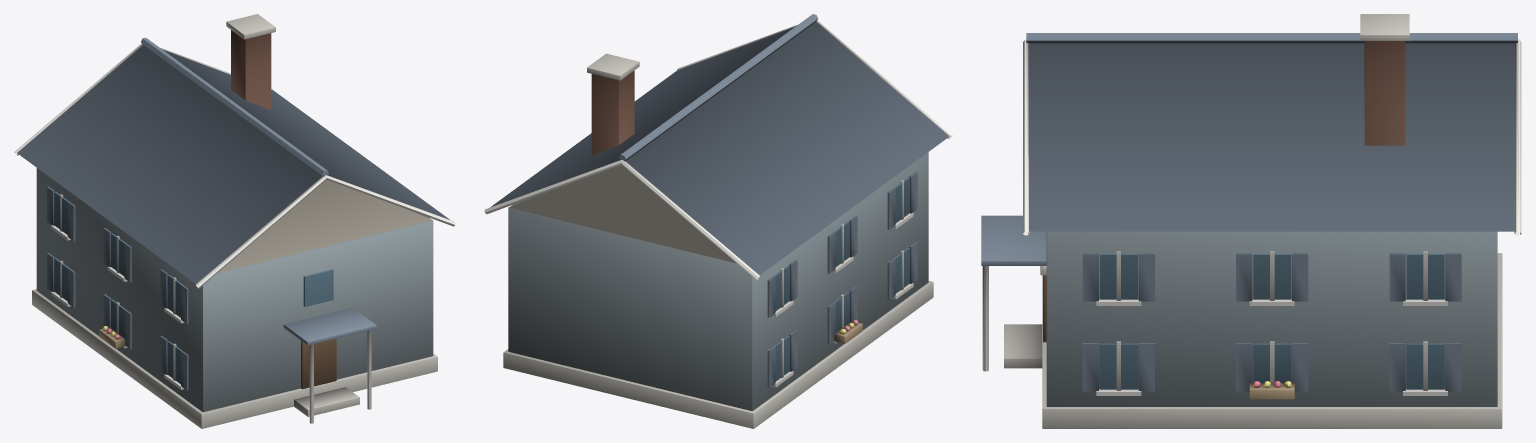
File: house_b.glb
3 views of the same model, side by side, from view 1: azimuth 30°, elevation 25°; view 2: azimuth 150°, elevation 25°; view 3: azimuth 270°, elevation 25° (orthographic). The views are drawn at different scales.
Parts seen in each view (by area): view 1: boat_tile2, boat_plaster2, boat_stone2, boat_plaster, boat_trim, boat_window, boat_chimney, boat_door; view 2: boat_tile2, boat_plaster2, boat_stone2, boat_plaster, boat_trim, boat_chimney, boat_window; view 3: boat_tile2, boat_plaster2, boat_stone2, boat_window, boat_trim, boat_chimney, boat_plank.
Boxes of the visible parts, x1,y1,x2,y2 form: boat_tile2: [17, 37, 449, 390]; boat_plaster2: [36, 168, 433, 412]; boat_stone2: [32, 14, 437, 428]; boat_plaster: [218, 179, 432, 272]; boat_trim: [14, 43, 455, 423]; boat_window: [54, 192, 333, 383]; boat_chimney: [231, 30, 271, 109]; boat_door: [301, 338, 336, 389]; boat_tile2: [490, 14, 949, 388]; boat_plaster2: [508, 152, 928, 411]; boat_stone2: [503, 53, 933, 428]; boat_plaster: [508, 164, 736, 263]; boat_trim: [484, 20, 952, 387]; boat_chimney: [591, 70, 634, 154]; boat_window: [774, 177, 909, 381]; boat_tile2: [981, 33, 1517, 391]; boat_plaster2: [1046, 231, 1497, 406]; boat_stone2: [1004, 14, 1502, 428]; boat_window: [1100, 253, 1444, 389]; boat_trim: [982, 39, 1521, 395]; boat_chimney: [1364, 41, 1405, 145]; boat_plank: [1249, 383, 1294, 399].
Bounding box in the file's own units: 8.97 × 8.93 × 11.98.
